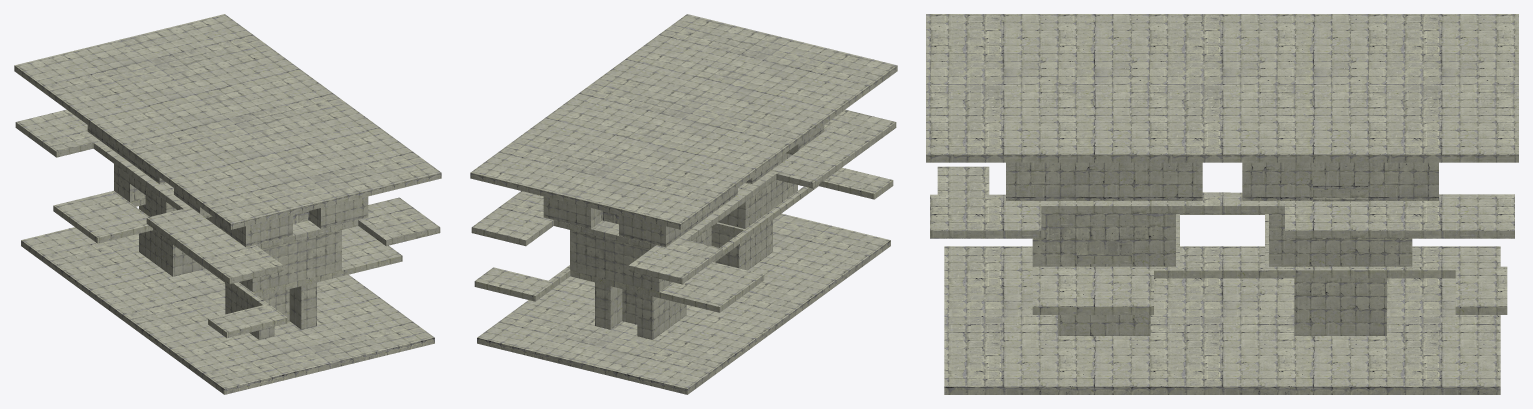
The model's file is SM_LDFest_27_00.fbx.
3 renders of one model, left to right at view 1: azimuth 30°, elevation 25°; view 2: azimuth 150°, elevation 25°; view 3: azimuth 270°, elevation 25°, orthographic. The views are drawn at different scales.
Parts seen in each view (by area): view 1: SM_LDFest_27_00; view 2: SM_LDFest_27_00; view 3: SM_LDFest_27_00.
Part boxes in pixels (<box>): SM_LDFest_27_00: <box>14,14,441,394</box>; SM_LDFest_27_00: <box>470,14,897,394</box>; SM_LDFest_27_00: <box>926,14,1518,394</box>.
Bounding box in the file's own units: 1799 × 1436 × 3209.
